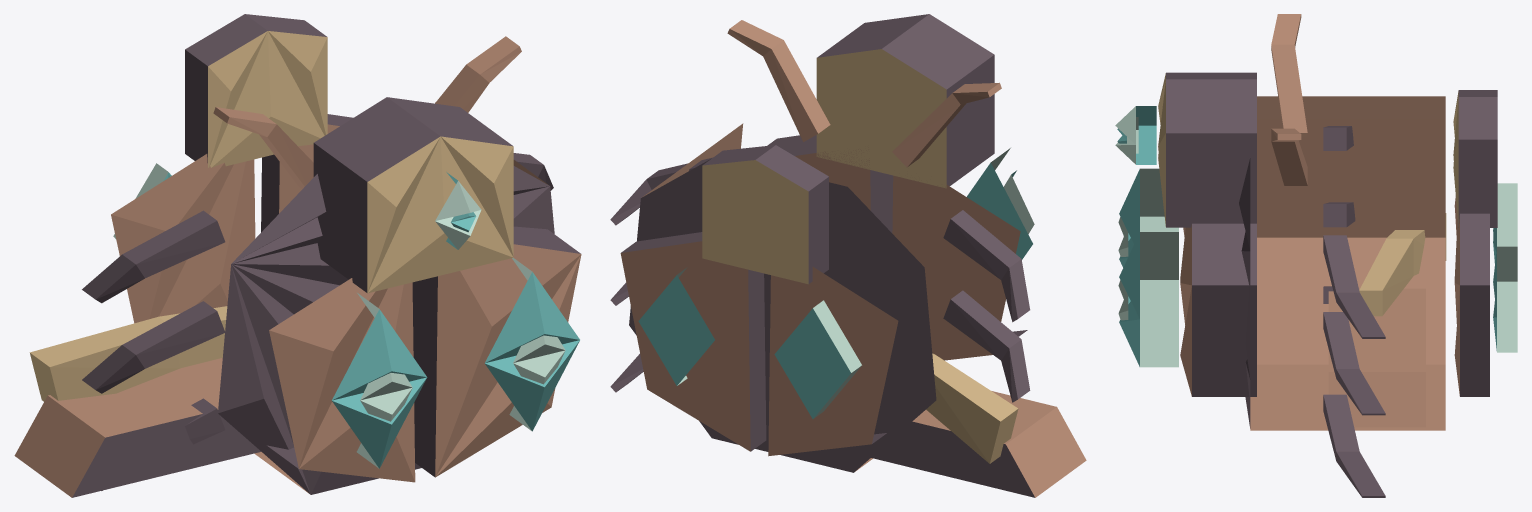
The model's file is copper_scarab.glb.
3 renders of one model, left to right at view 1: azimuth 30°, elevation 25°; view 2: azimuth 150°, elevation 25°; view 3: azimuth 270°, elevation 25°, orthographic. The views are drawn at different scales.
Parts seen in each view (by area): view 1: body; view 2: body; view 3: body.
Boxes of the visible parts, box(x1,y1,x2,y2) form: body: box(14, 14, 581, 497); body: box(610, 14, 1086, 497); body: box(1115, 14, 1517, 497).
Size of the model in its own units: 7.55 by 5.63 by 6.19.
